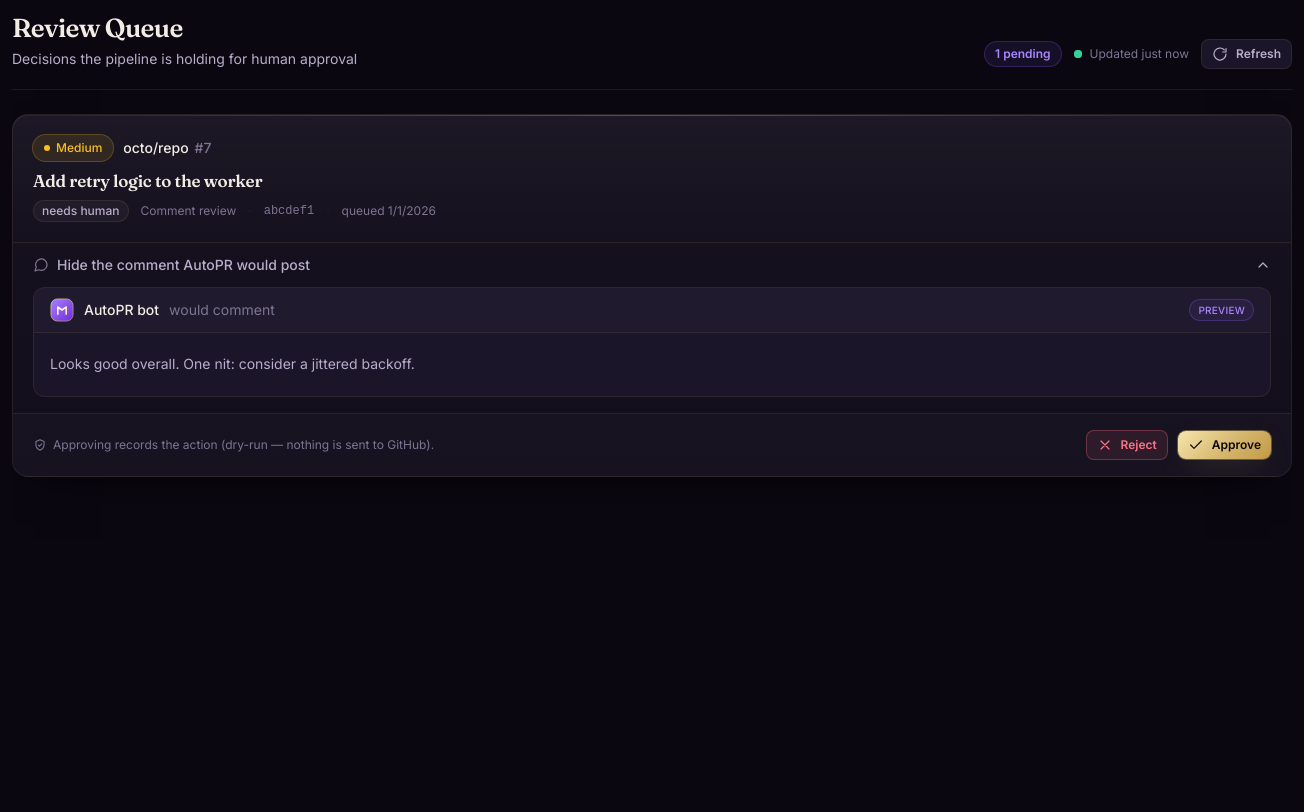
ReviewQueue › approves a decision and confirms with a dry-run toast
Click the button "Approve" at (1224,445), box left=1178, top=431, right=1271, bottom=459
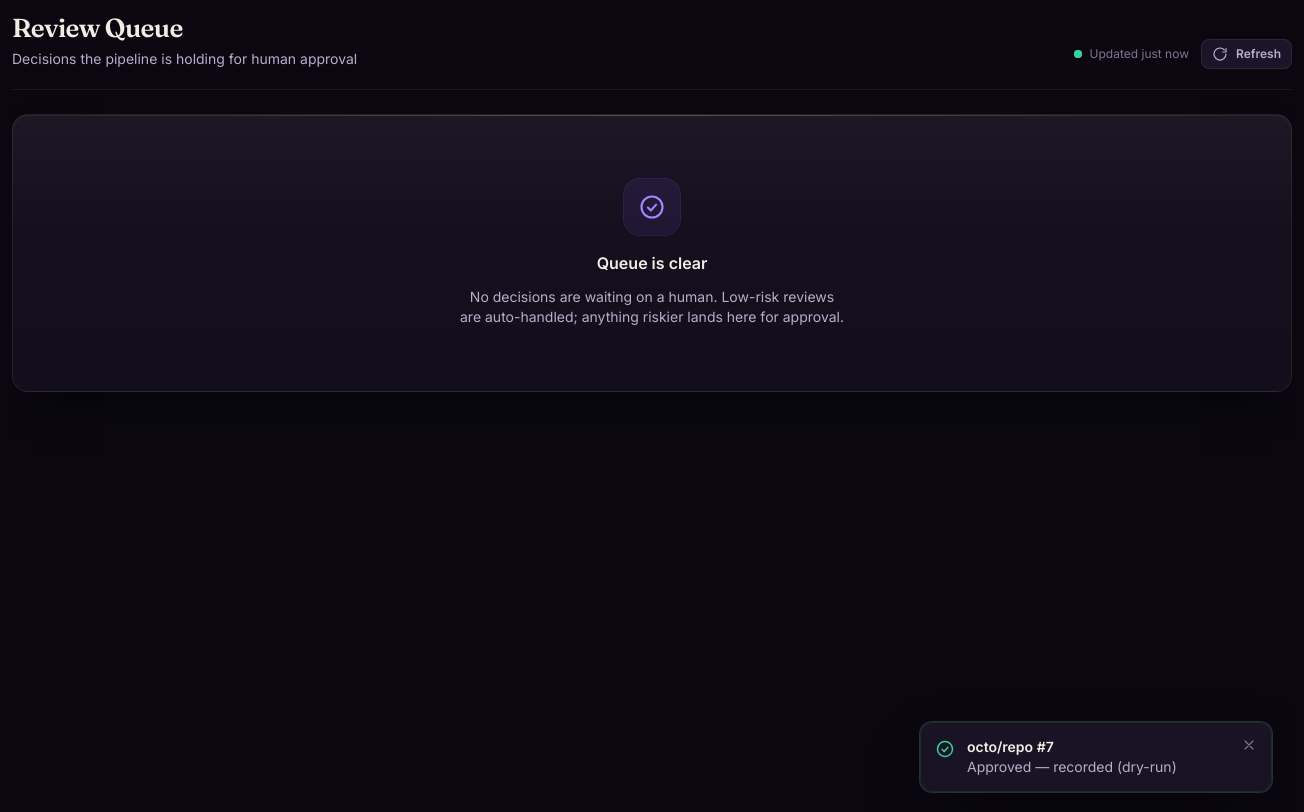
Now the text "Approved — recorded (dry-run)" is shown, box left=967, top=758, right=1177, bottom=775
